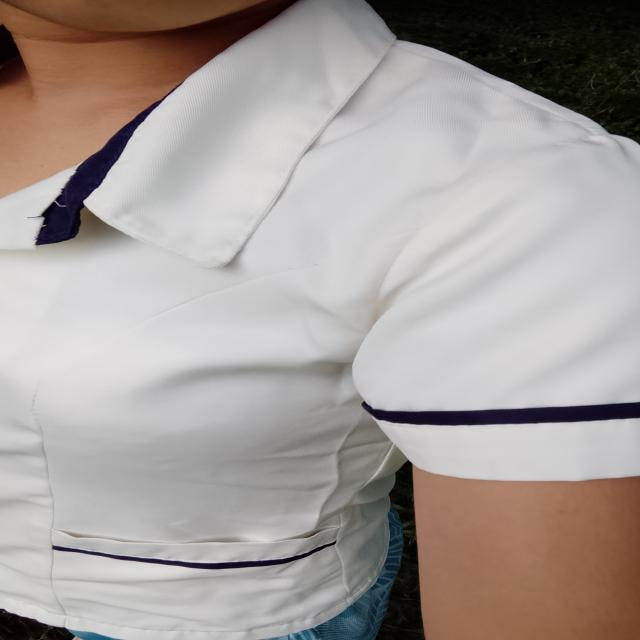education_female_uniform: (0, 3, 640, 605)
